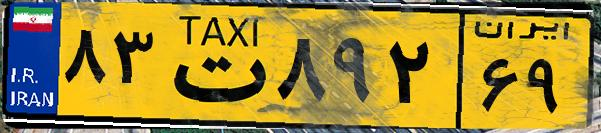2: (385, 28, 445, 110)
3: (110, 28, 158, 98)
6: (475, 38, 525, 113)
8: (270, 28, 330, 110), (57, 26, 110, 100)
9: (330, 28, 385, 110), (525, 38, 570, 115)
ت: (158, 12, 270, 120)
